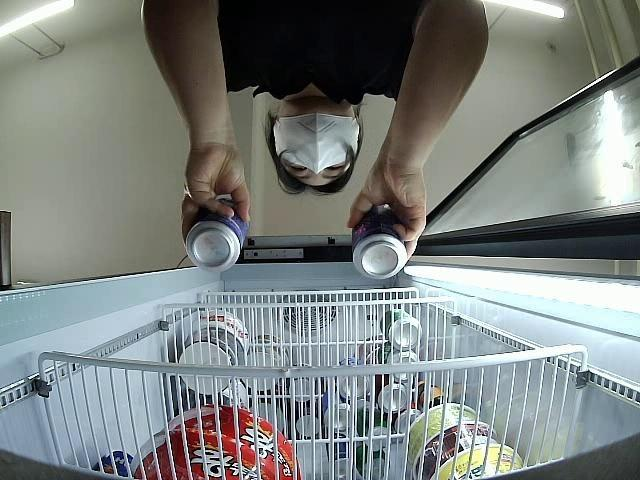14_welchsGrape: (184, 196, 248, 270), (350, 200, 408, 280)
